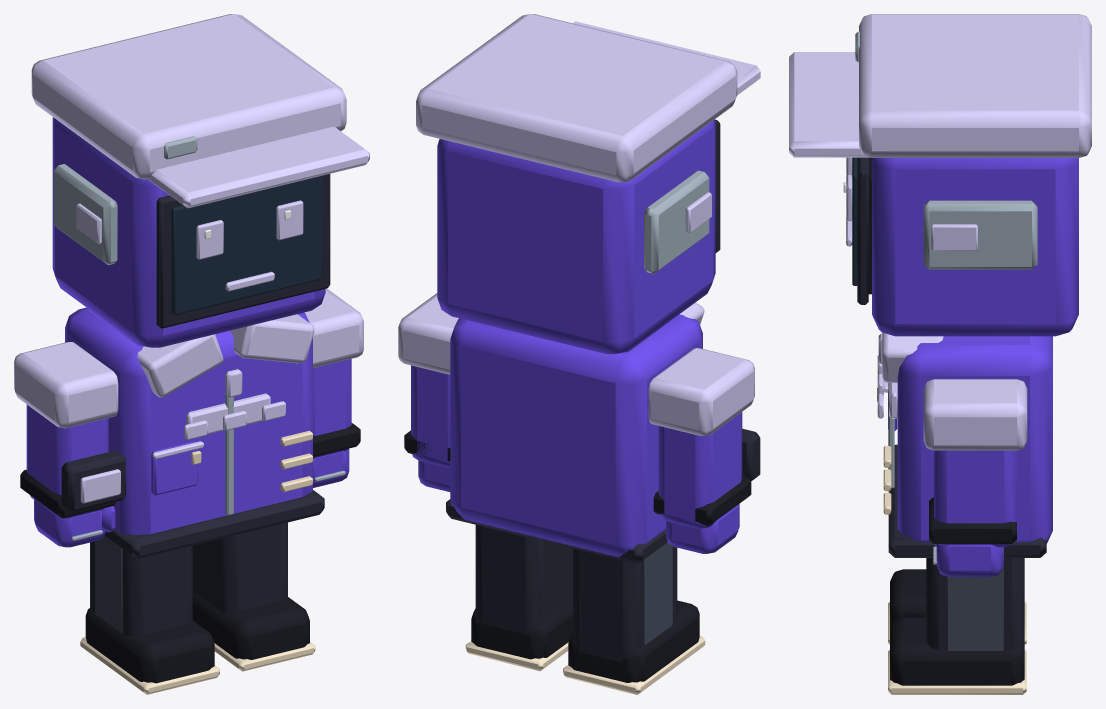
File: Qwen3.glb
The picture shows the model from 3 angles, left to right: view 1: azimuth 30°, elevation 25°; view 2: azimuth 150°, elevation 25°; view 3: azimuth 270°, elevation 25°; orthographic projection. The views are drawn at different scales.
Parts seen in each view (by area): view 1: Batch_Head_CITY / #d9d2ff, Batch_Body_CITY / #6b4ef0, Batch_Body_CITY / #d9d2ff, Batch_Head_CITY / #6b4ef0, Batch_Head_CITY / #1e3042.003, Leg_R_trouser, Leg_L_trouser, Leg_L_shoe, Leg_R_shoe, Batch_Head_CITY / charcoal.016, Batch_Body_CITY / charcoal.016, Batch_Head_CITY / metal.016 (+14 smaller); view 2: Batch_Head_CITY / #6b4ef0, Batch_Body_CITY / #6b4ef0, Batch_Head_CITY / #d9d2ff, Batch_Body_CITY / #d9d2ff, Leg_R_trouser, Leg_L_trouser, Arm_L_sleeve, Leg_L_shoe, Batch_Head_CITY / metal.016, Arm_R_sleeve, Leg_R_shoe, Batch_Leg_L_CITY / #475061.016 (+8 smaller); view 3: Batch_Head_CITY / #d9d2ff, Batch_Head_CITY / #6b4ef0, Batch_Body_CITY / #6b4ef0, Batch_Body_CITY / #d9d2ff, Batch_Head_CITY / metal.016, Arm_R_sleeve, Leg_R_shoe, Batch_Leg_R_CITY / #475061.016, Leg_R_trouser, Arm_R_hand, Batch_Body_CITY / charcoal.016, Batch_Arm_R_CITY / rubber.016 (+6 smaller).
Boxes of the visible parts, left/top/right/bottom form: Batch_Head_CITY / #d9d2ff: left=31, top=14, right=369, bottom=291; Batch_Body_CITY / #6b4ef0: left=65, top=307, right=312, bottom=534; Batch_Body_CITY / #d9d2ff: left=14, top=288, right=363, bottom=459; Batch_Head_CITY / #6b4ef0: left=52, top=117, right=325, bottom=347; Batch_Head_CITY / #1e3042.003: left=171, top=175, right=322, bottom=315; Leg_R_trouser: left=192, top=522, right=287, bottom=613; Leg_L_trouser: left=90, top=541, right=192, bottom=636; Leg_L_shoe: left=85, top=608, right=214, bottom=683; Leg_R_shoe: left=192, top=591, right=309, bottom=659; Batch_Head_CITY / charcoal.016: left=156, top=174, right=330, bottom=328; Batch_Body_CITY / charcoal.016: left=104, top=490, right=324, bottom=559; Batch_Head_CITY / metal.016: left=53, top=136, right=197, bottom=265; Batch_Head_CITY / #6b4ef0: left=437, top=119, right=715, bottom=354; Batch_Body_CITY / #6b4ef0: left=450, top=314, right=702, bottom=557; Batch_Head_CITY / #d9d2ff: left=416, top=14, right=760, bottom=233; Batch_Body_CITY / #d9d2ff: left=398, top=293, right=754, bottom=435; Leg_R_trouser: left=475, top=525, right=572, bottom=634; Leg_L_trouser: left=573, top=546, right=677, bottom=662; Arm_L_sleeve: left=658, top=412, right=742, bottom=528; Leg_L_shoe: left=568, top=600, right=699, bottom=682; Batch_Head_CITY / metal.016: left=644, top=170, right=709, bottom=273; Arm_R_sleeve: left=411, top=365, right=450, bottom=468; Leg_R_shoe: left=471, top=602, right=572, bottom=659; Batch_Leg_L_CITY / #475061.016: left=644, top=542, right=672, bottom=644; Batch_Head_CITY / #d9d2ff: left=789, top=14, right=1091, bottom=250; Batch_Head_CITY / #6b4ef0: left=872, top=158, right=1078, bottom=336; Batch_Body_CITY / #6b4ef0: left=888, top=336, right=1052, bottom=543; Batch_Body_CITY / #d9d2ff: left=877, top=332, right=1027, bottom=450; Batch_Head_CITY / metal.016: left=855, top=31, right=1037, bottom=269; Arm_R_sleeve: left=934, top=450, right=1016, bottom=547; Leg_R_shoe: left=890, top=617, right=1024, bottom=685; Batch_Leg_R_CITY / #475061.016: left=947, top=566, right=1003, bottom=650; Leg_R_trouser: left=926, top=558, right=1024, bottom=653; Arm_R_hand: left=936, top=544, right=1003, bottom=577; Batch_Body_CITY / charcoal.016: left=888, top=444, right=1046, bottom=557; Batch_Arm_R_CITY / rubber.016: left=929, top=497, right=1016, bottom=543.
Size of the model in its own units: 0.71 by 1.26 by 0.585.
